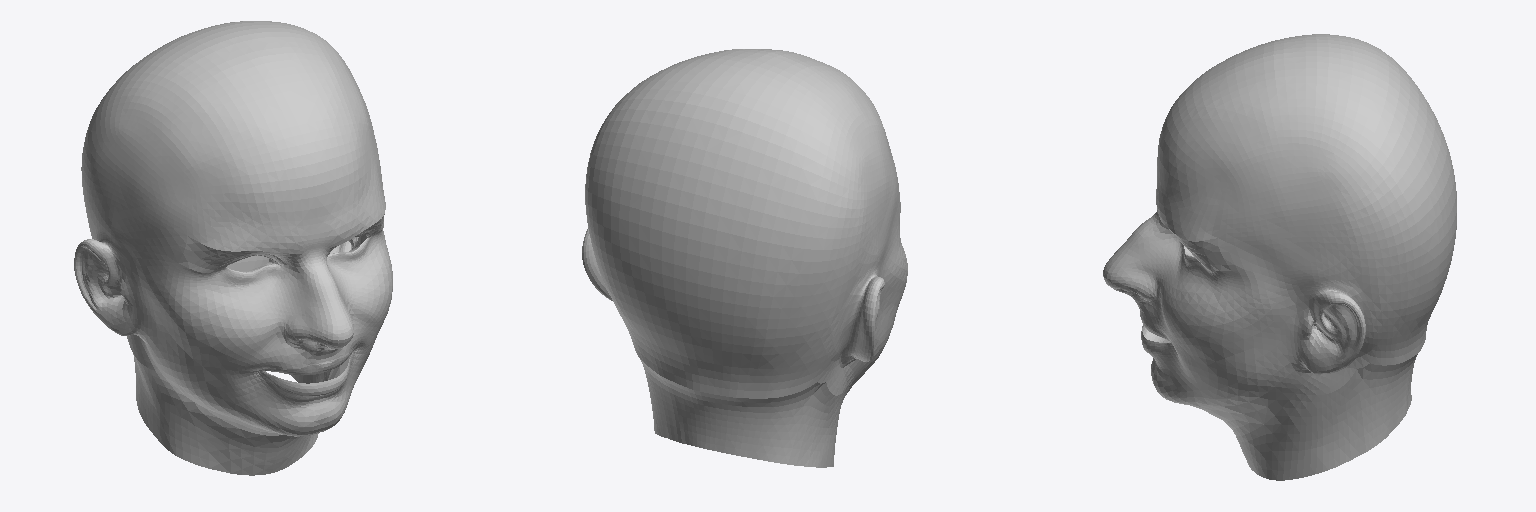
File: p2a_headMale.obj
3 views of the same model, side by side, from view 1: azimuth 30°, elevation 25°; view 2: azimuth 150°, elevation 25°; view 3: azimuth 270°, elevation 25° (orthographic).
Bounding box in the file's own units: 0.2254 × 0.3068 × 0.24.